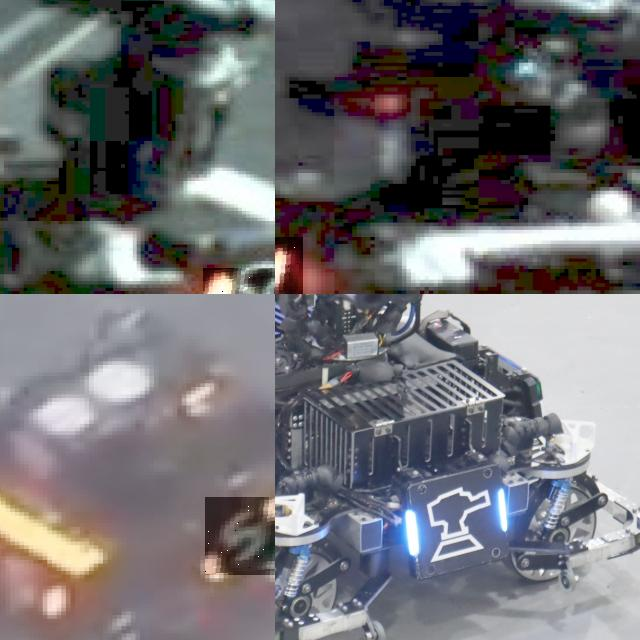Bs: (404, 467, 510, 577)
R5: (205, 497, 275, 574)
Rs: (203, 267, 275, 294), (275, 237, 302, 294)
